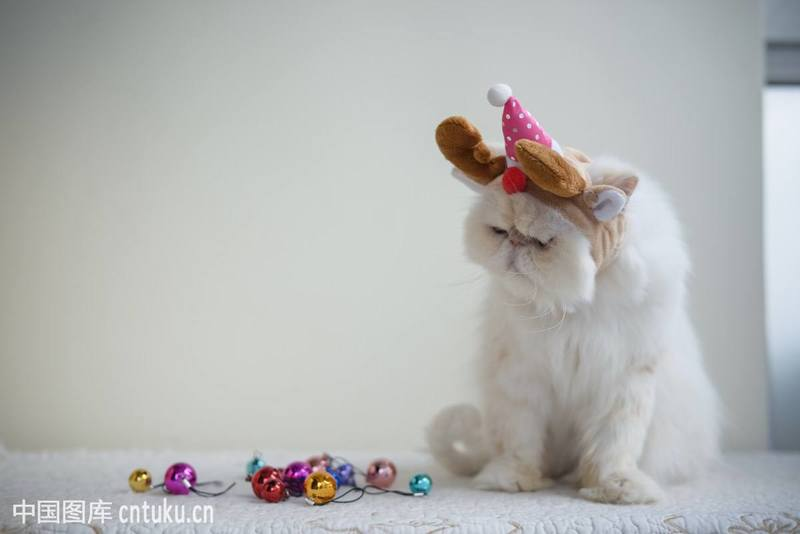cat: (382, 77, 690, 375)
